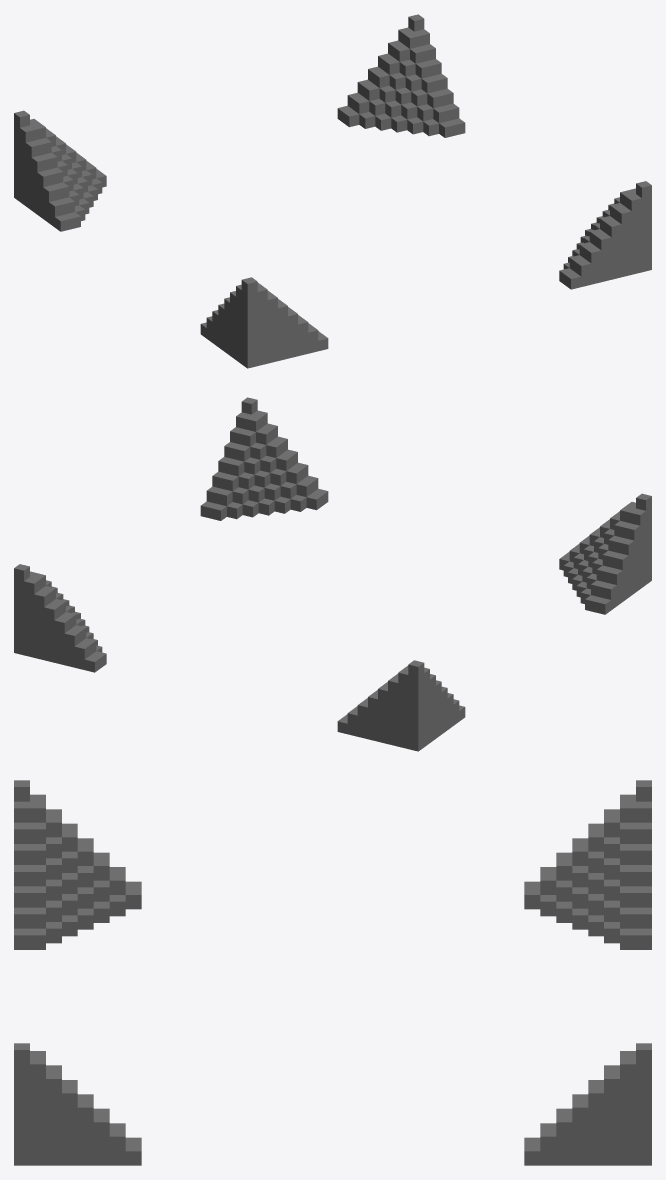
The model's file is TeleportBlockDeactivated.obj.
The picture shows the model from 3 angles, top to bottom: view 1: azimuth 30°, elevation 25°; view 2: azimuth 150°, elevation 25°; view 3: azimuth 270°, elevation 25°; orthographic projection. The views are drawn at different scales.
Size of the model in its own units: 4 by 0.8 by 4.
1 material, 1 textured.
